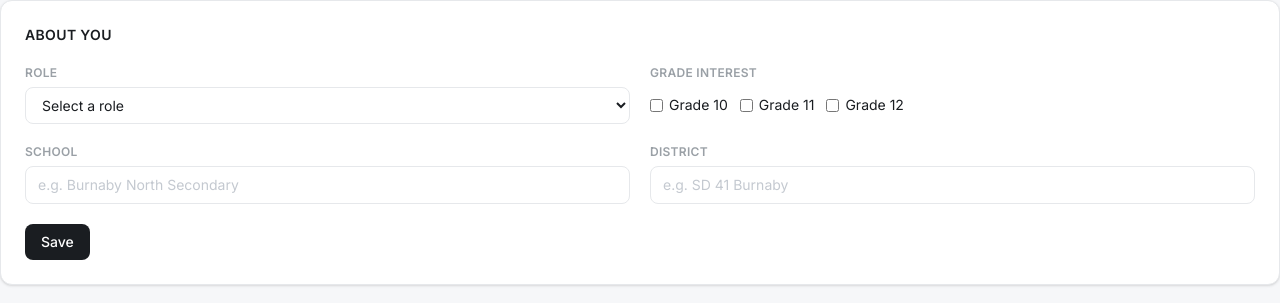
Test case: ProfileForm › saves edited fields and shows a success confirmation
The width and height of the screenshot is (1280, 303).
Select "Student" in the dropdown labelled "Role" at (328, 106), box [25, 87, 630, 124]
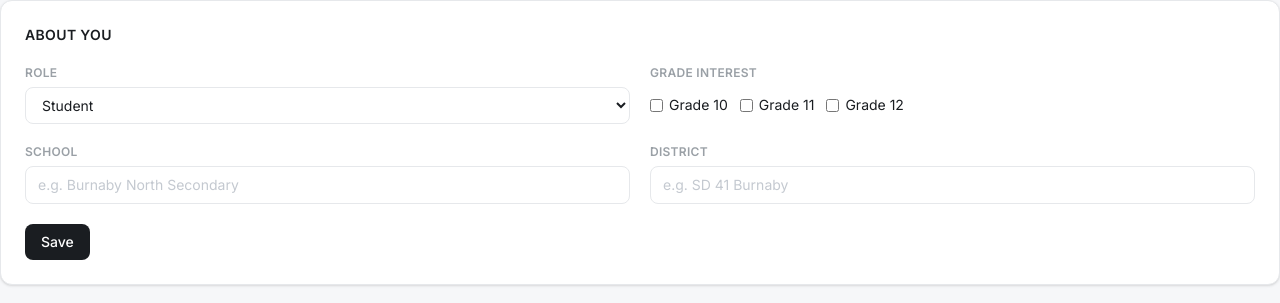
Click the checkbox labelled "Grade 10" at (656, 105), box [650, 98, 663, 112]
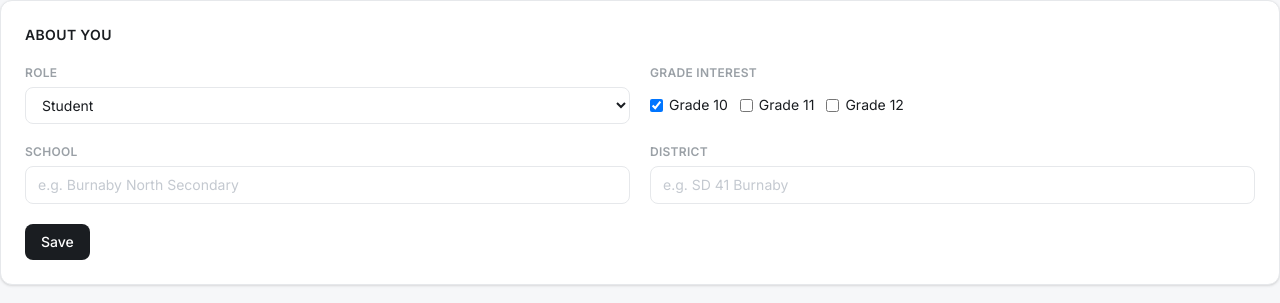
Type "New School" into the field with placeholder "e.g. Burnaby North Secondary" at (328, 185), box [25, 166, 630, 204]
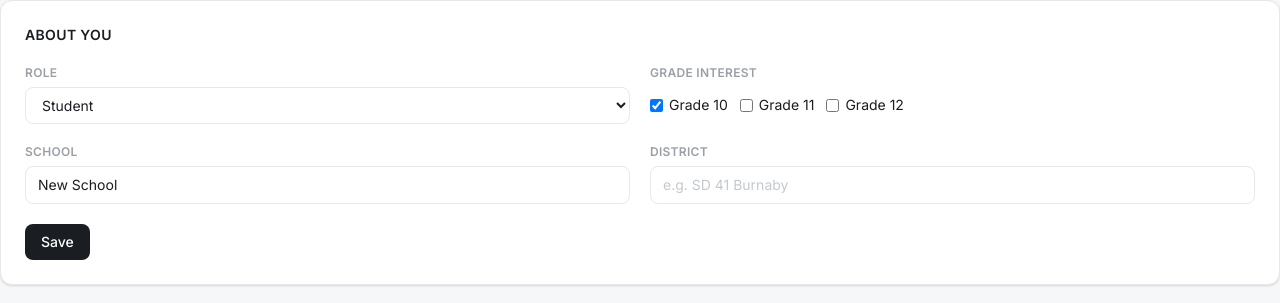
Click the button "Save" at (57, 242), box [25, 224, 90, 260]
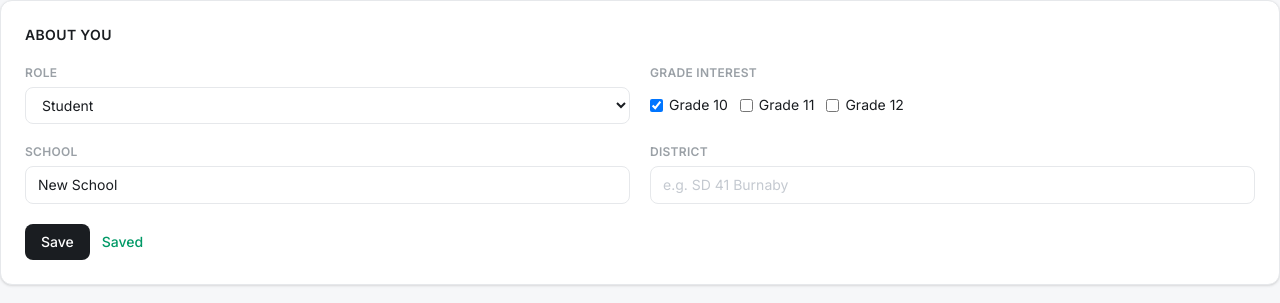
Check: the text "Saved" is shown, box [102, 232, 143, 252]
